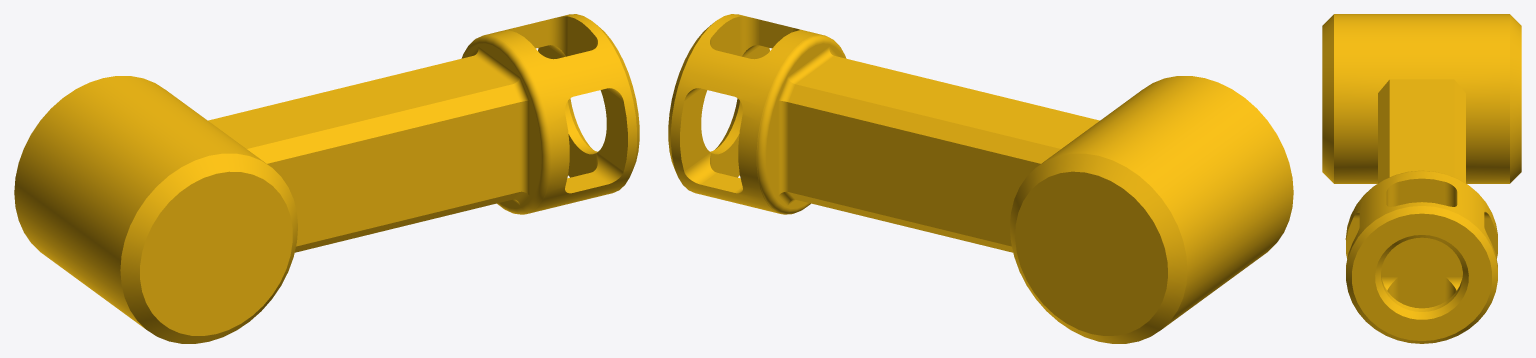
The model's file is arm_link5.dae.
3 views of the same model, side by side, from view 1: azimuth 30°, elevation 25°; view 2: azimuth 150°, elevation 25°; view 3: azimuth 270°, elevation 25° (orthographic). The views are drawn at different scales.
Visible parts, largest first — view 1: ID2; view 2: ID2; view 3: ID2.
Boxes of the visible parts, x1,y1,x2,y2 form: ID2: (14,14,639,343); ID2: (668,14,1293,343); ID2: (1322,14,1521,343).
Bounding box in the file's own units: 0.0865 × 0.034 × 0.029.
